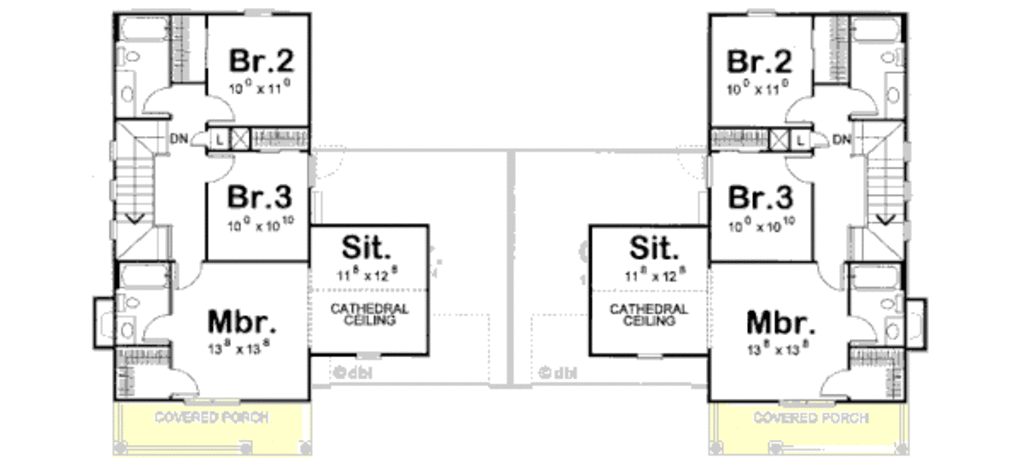door: (308, 138, 348, 181), (814, 359, 854, 399), (162, 361, 199, 400), (203, 146, 236, 187), (843, 83, 879, 120), (169, 257, 203, 294), (843, 311, 877, 347), (141, 82, 176, 116), (139, 314, 177, 345), (783, 89, 815, 125), (813, 255, 843, 293), (203, 89, 236, 121), (786, 155, 816, 187), (186, 122, 210, 150)
large_sink: (111, 39, 143, 68), (116, 289, 148, 316), (878, 44, 905, 70), (876, 291, 901, 313)
small_sink: (111, 68, 140, 120), (886, 72, 911, 118), (114, 312, 137, 345), (886, 315, 907, 344)
stairs: (114, 116, 173, 262), (847, 116, 907, 257)
tub: (107, 258, 172, 291), (847, 11, 903, 45), (117, 13, 176, 42), (849, 266, 898, 289)
window: (240, 3, 281, 22), (348, 350, 394, 366), (739, 4, 783, 19), (639, 347, 663, 364)
